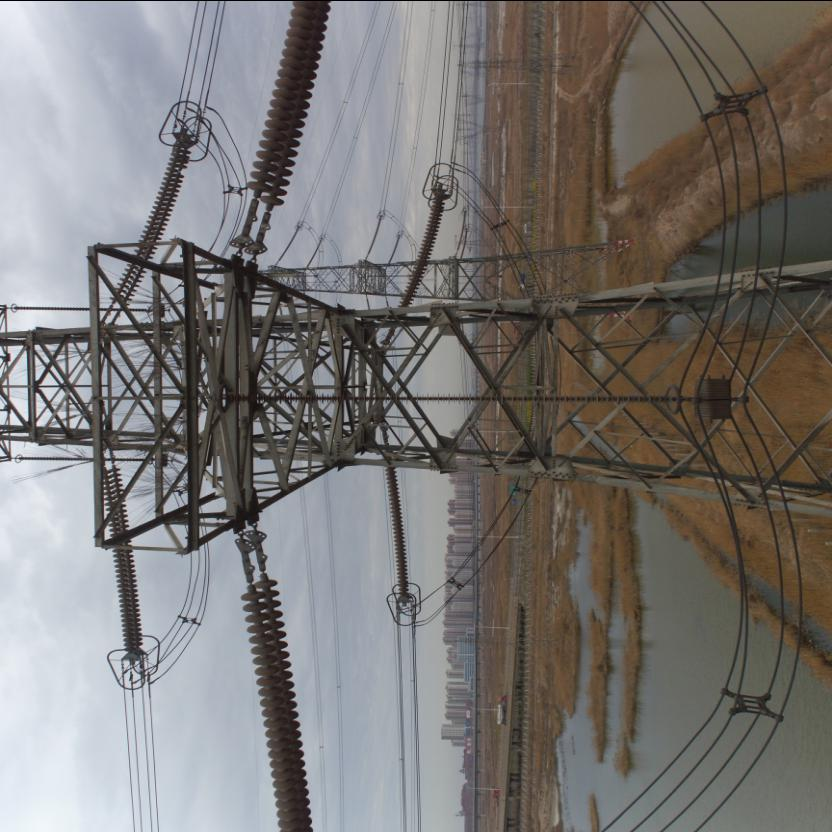insulator: (235, 556, 316, 831), (236, 0, 332, 229), (394, 193, 448, 305), (380, 466, 412, 602)
